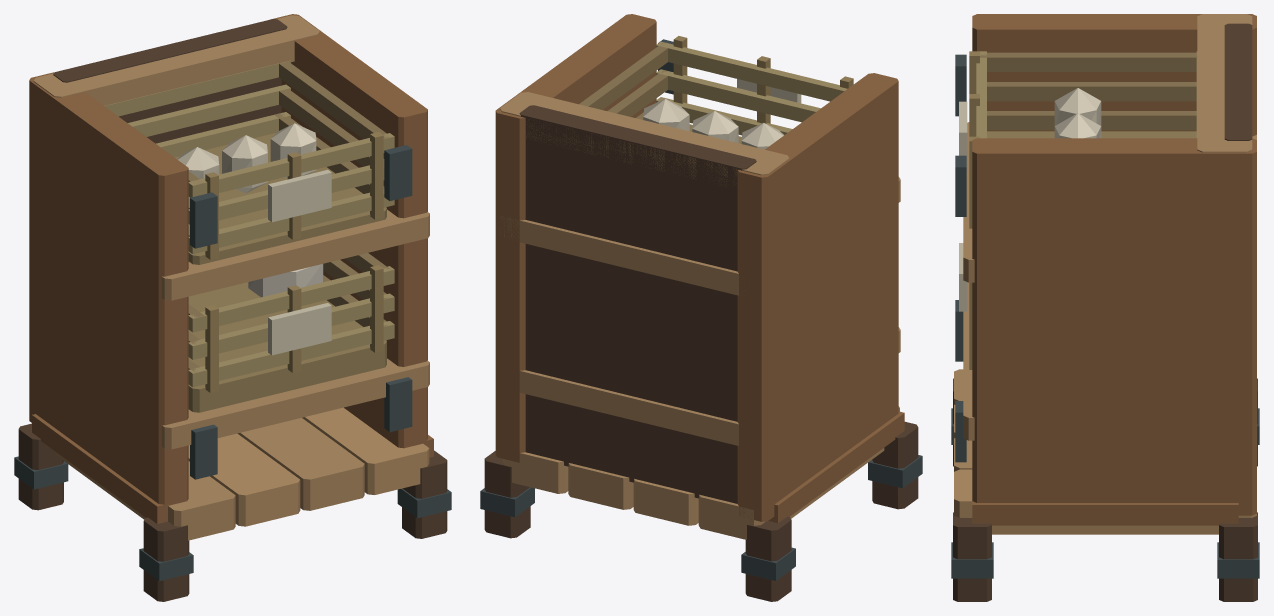
File: auto_collector.glb
The picture shows the model from 3 angles, left to right: view 1: azimuth 30°, elevation 25°; view 2: azimuth 150°, elevation 25°; view 3: azimuth 270°, elevation 25°; orthographic projection. The views are drawn at different scales.
Visible parts, largest first — view 1: geometry, cargo; view 2: geometry, cargo; view 3: geometry, cargo.
Boxes of the visible parts, <box> form: geometry: <box>14,14,451,601</box>; cargo: <box>177,123,323,297</box>; geometry: <box>480,14,922,601</box>; cargo: <box>643,99,783,149</box>; geometry: <box>951,14,1259,601</box>; cargo: <box>1054,88,1101,138</box>.
Size of the model in its own units: 0.782 by 1.07 by 0.672.
